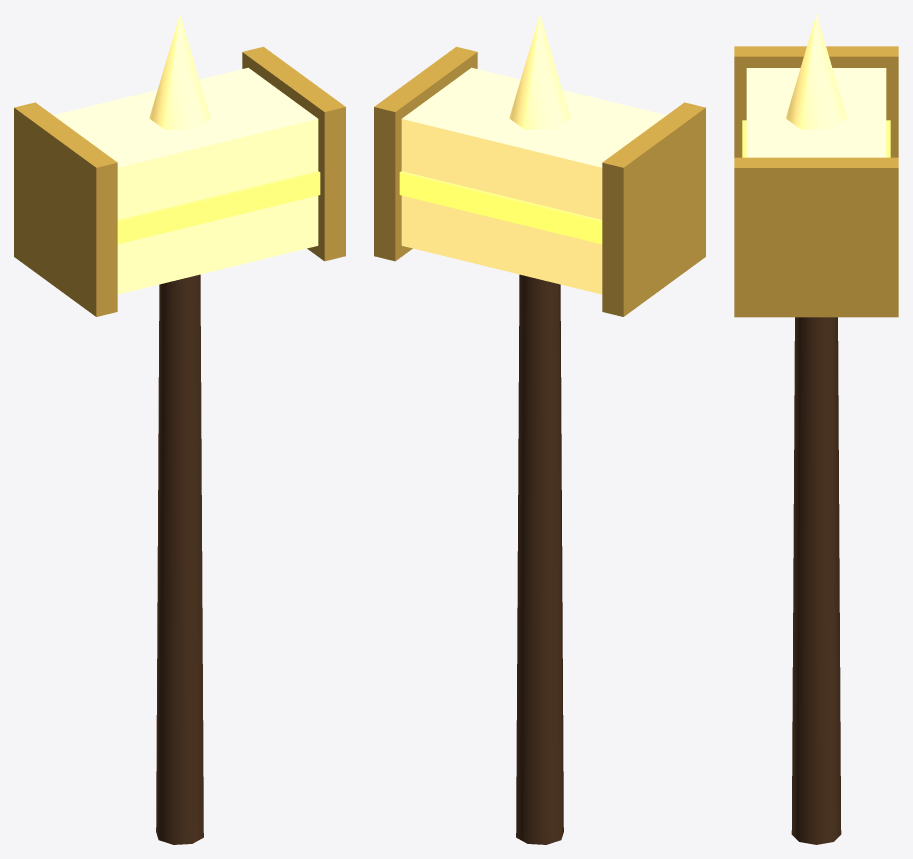
Rendered from axe_f2_e2a5739c.glb.
The picture shows the model from 3 angles, left to right: view 1: azimuth 30°, elevation 25°; view 2: azimuth 150°, elevation 25°; view 3: azimuth 270°, elevation 25°; orthographic projection.
Visible parts, largest first — view 1: m2_ow80_, m0_ow80_, m3_ow80_, m1_gm120_; view 2: m2_ow80_, m0_ow80_, m3_ow80_, m1_gm120_; view 3: m3_ow80_, m0_ow80_, m2_ow80_, m1_gm120_.
Part boxes in pixels (x1,y1,x2,y2): m2_ow80_: [53, 15, 318, 294]; m0_ow80_: [156, 274, 203, 844]; m3_ow80_: [14, 46, 345, 316]; m1_gm120_: [117, 171, 320, 244]; m2_ow80_: [401, 15, 666, 294]; m0_ow80_: [516, 274, 563, 844]; m3_ow80_: [374, 46, 705, 316]; m1_gm120_: [399, 171, 602, 244]; m3_ow80_: [734, 46, 898, 317]; m0_ow80_: [791, 317, 841, 844]; m2_ow80_: [746, 14, 886, 157]; m1_gm120_: [742, 120, 890, 157].
Size of the model in its own units: 0.7 by 2.2 by 0.4.
